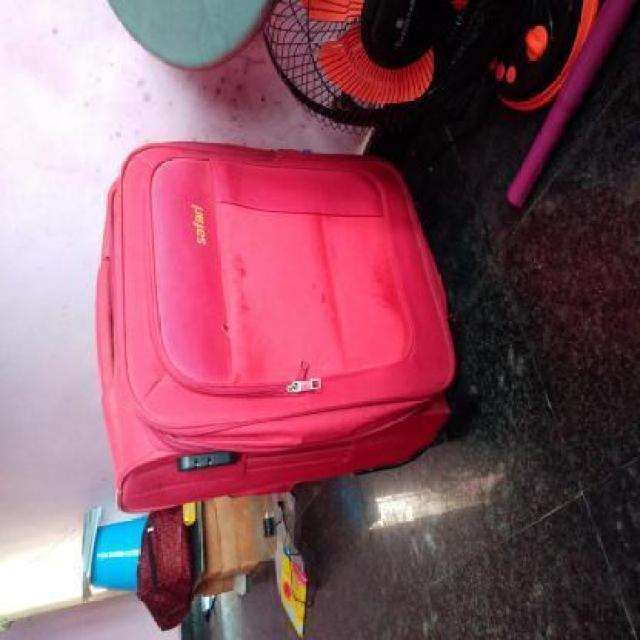backpack: (92, 138, 460, 516)
